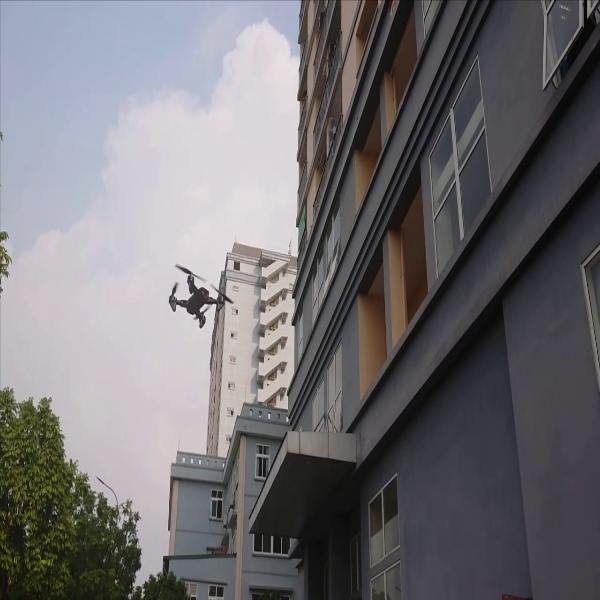drone: (151, 258, 239, 331)
